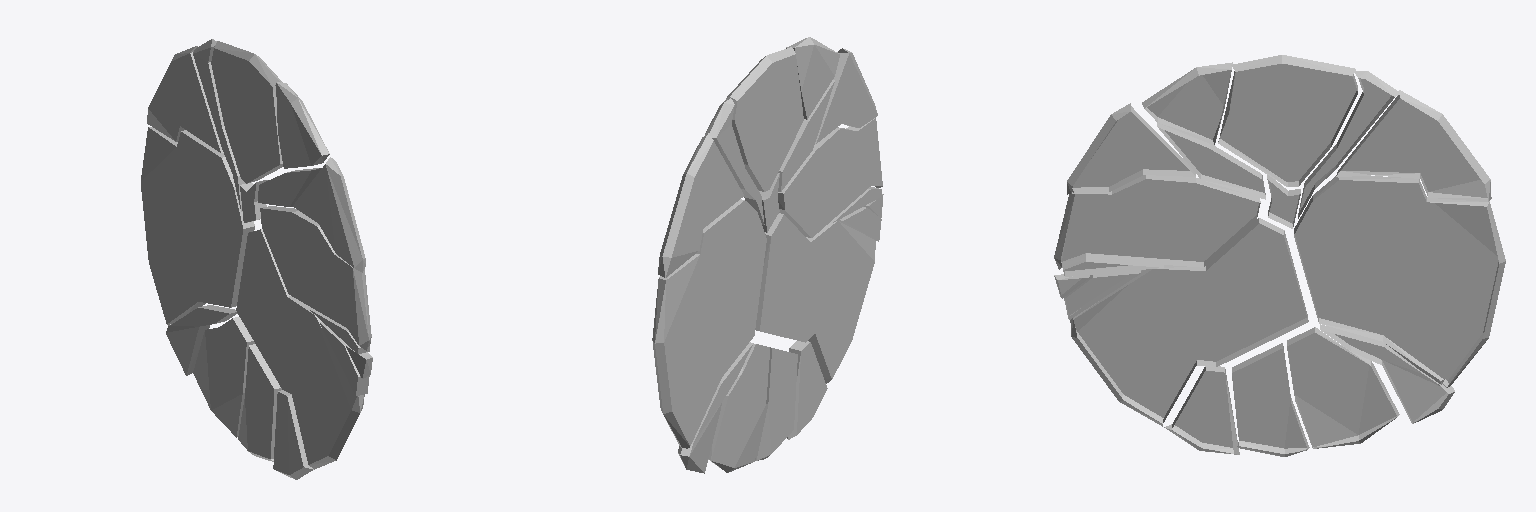
The model's file is mirror.obj.
3 views of the same model, side by side, from view 1: azimuth 30°, elevation 25°; view 2: azimuth 150°, elevation 25°; view 3: azimuth 270°, elevation 25° (orthographic).
Bounding box in the file's own units: 0.0324 × 1.04 × 1.06.